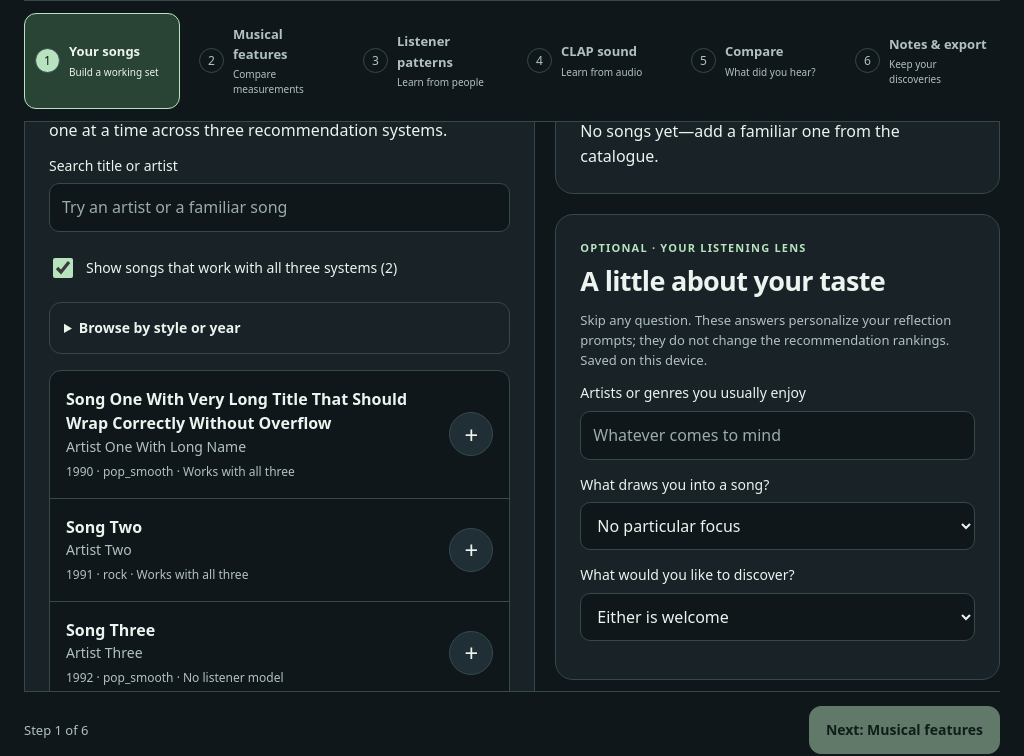
Shared song listening workshop › retains description matching as an optional CLAP experiment without the retired live text search
(page scrolled)
Step 1. Click the button named "Add " → point(471, 434), box [449, 412, 493, 456]
(page scrolled)
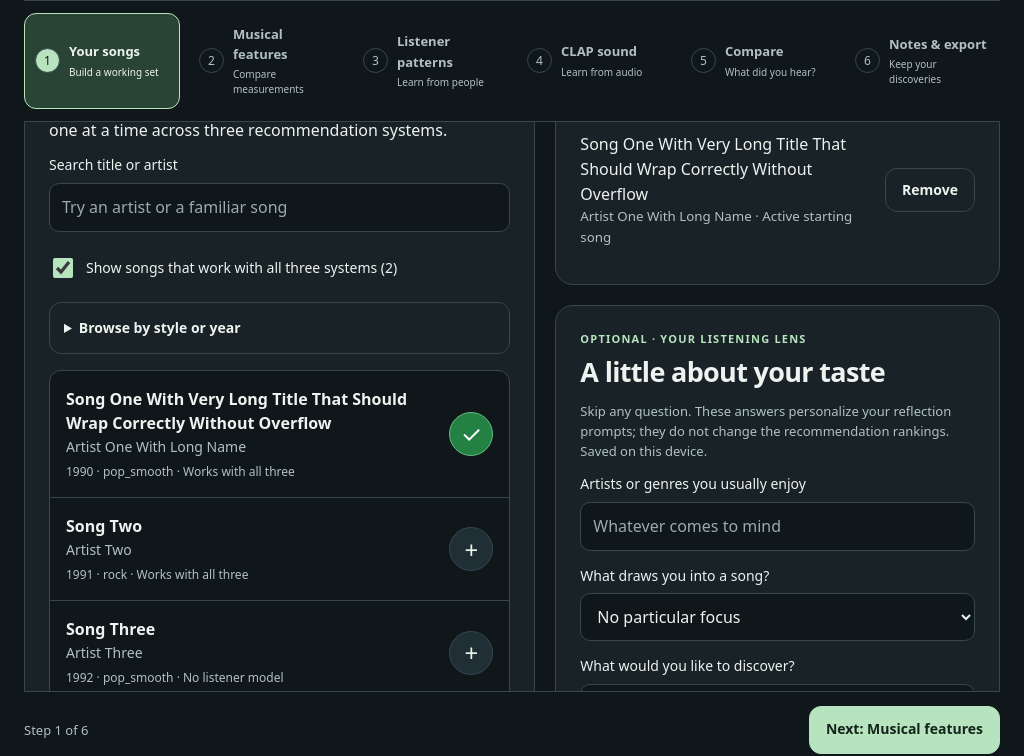
Step 2. Click the button named "Add " → point(471, 549), box [449, 527, 493, 571]
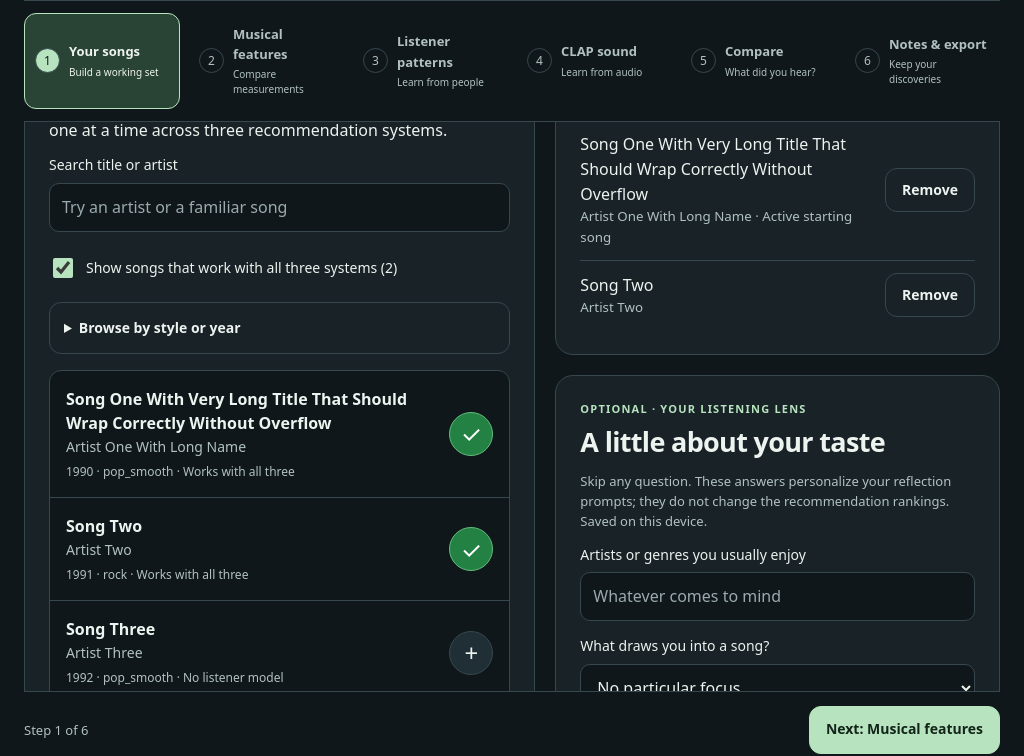
Step 3. Click the button "4 CLAP sound Learn from audio" → point(594, 61), box [516, 13, 672, 109]
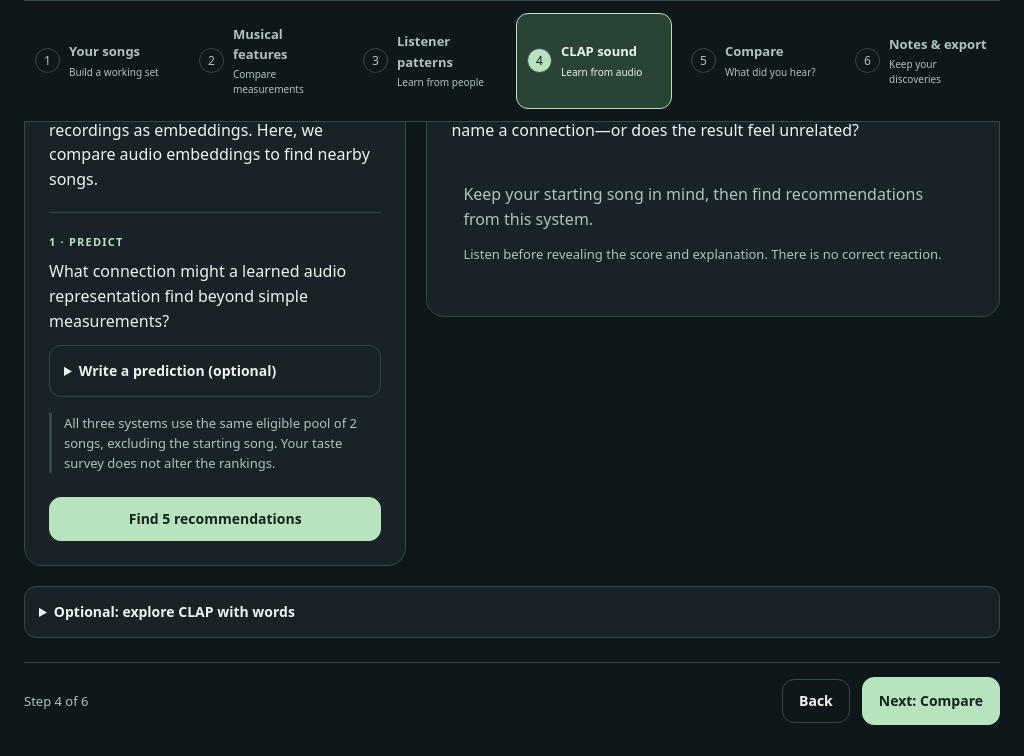
Step 4. Click the heading "Optional: explore CLAP with words" → point(174, 612), box [54, 602, 295, 622]
(page scrolled)
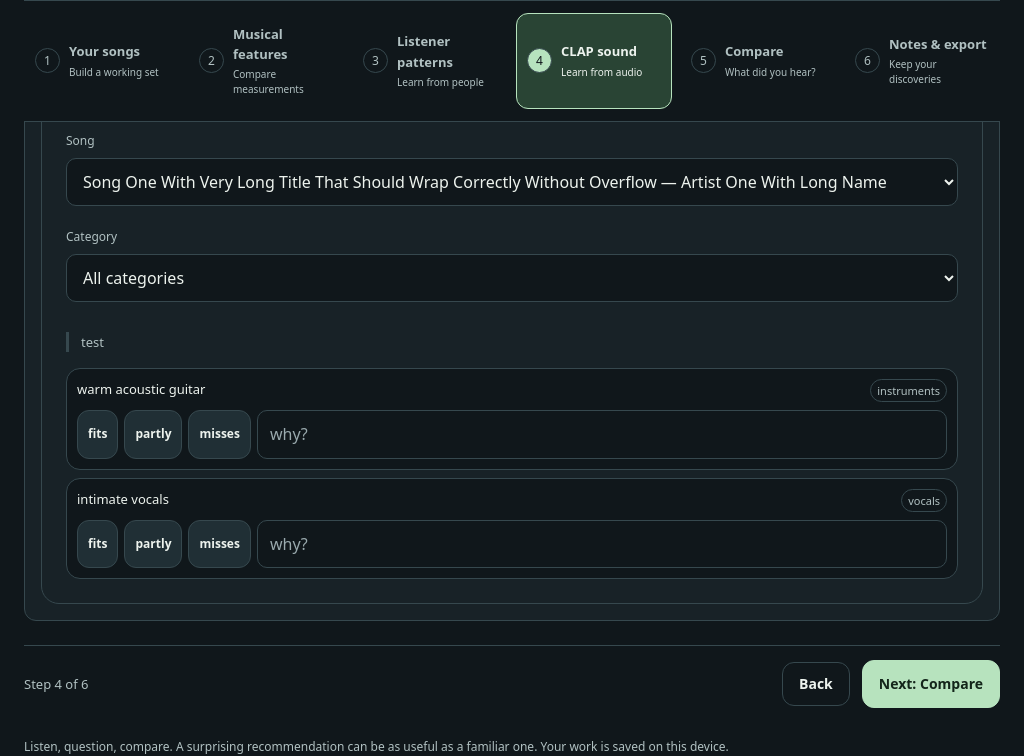
Expected: the text "Chosen for varied listening and discussion" is shown, [81, 77, 943, 115]
Expected: the button "fits" below "warm acoustic guitar" is shown
Step 5. Click the button "fits" below "warm acoustic guitar" → point(98, 434), box [77, 410, 118, 459]
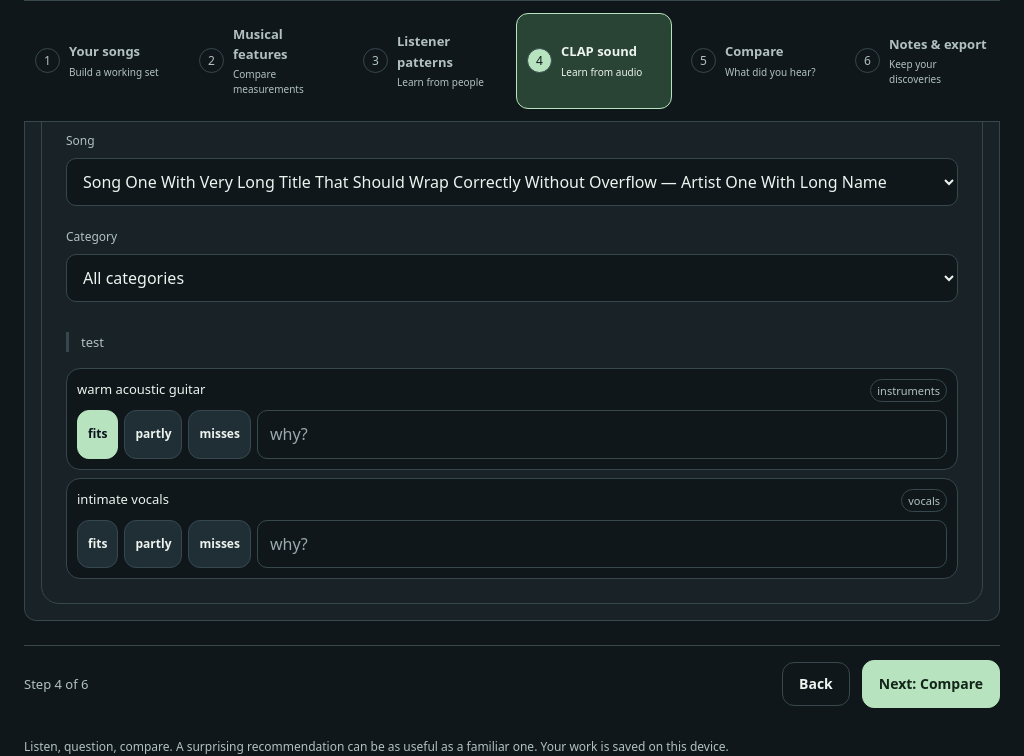
Expected: the button "fits" below "warm acoustic guitar" is shown, [77, 410, 118, 459]
Step 6. Click the button "6 Notes & export Keep your discoveries" → point(922, 61), box [844, 13, 1000, 109]
(page scrolled)
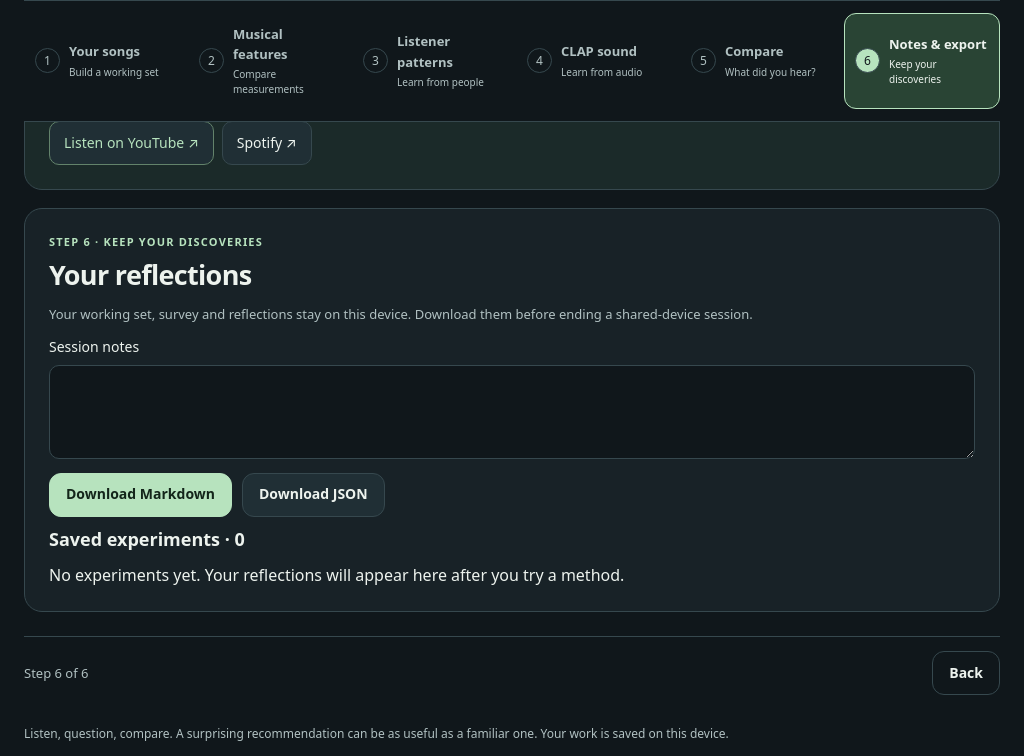
Expected: the button "Download Markdown" is enabled, [49, 473, 232, 517]
